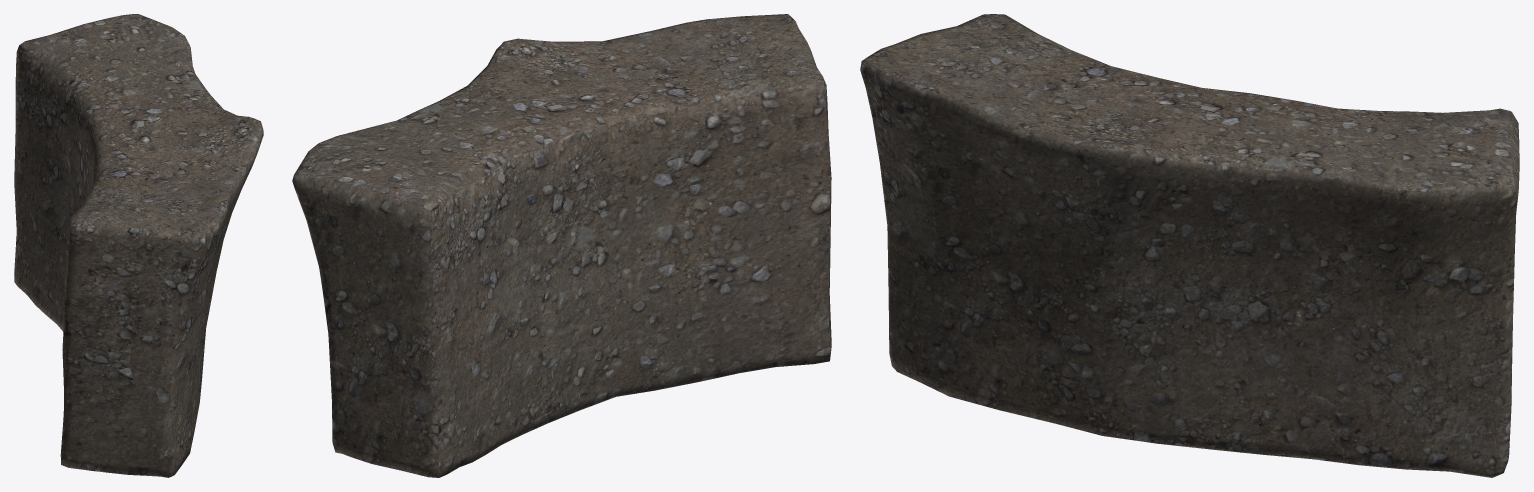
File: cave_modules_cliff_turn_2.dae
The picture shows the model from 3 angles, left to right: view 1: azimuth 30°, elevation 25°; view 2: azimuth 150°, elevation 25°; view 3: azimuth 270°, elevation 25°; orthographic projection. The views are drawn at different scales.
Parts seen in each view (by area): view 1: cliff_turn_2; view 2: cliff_turn_2; view 3: cliff_turn_2.
Part boxes in pixels (x1,y1,x2,y2): cliff_turn_2: (14,14,263,477); cliff_turn_2: (292,14,831,477); cliff_turn_2: (860,14,1519,477).
Size of what is drawn, in the model's own units: 4.61 by 3.96 by 7.02.
